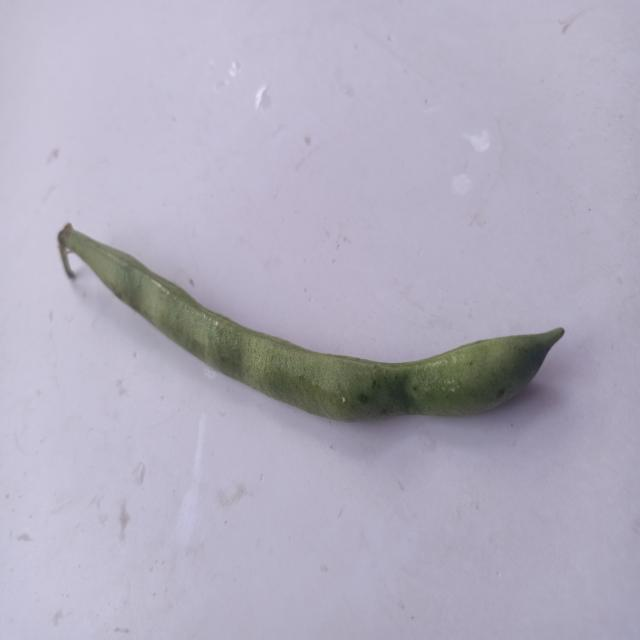Beans: (39, 197, 570, 438)
